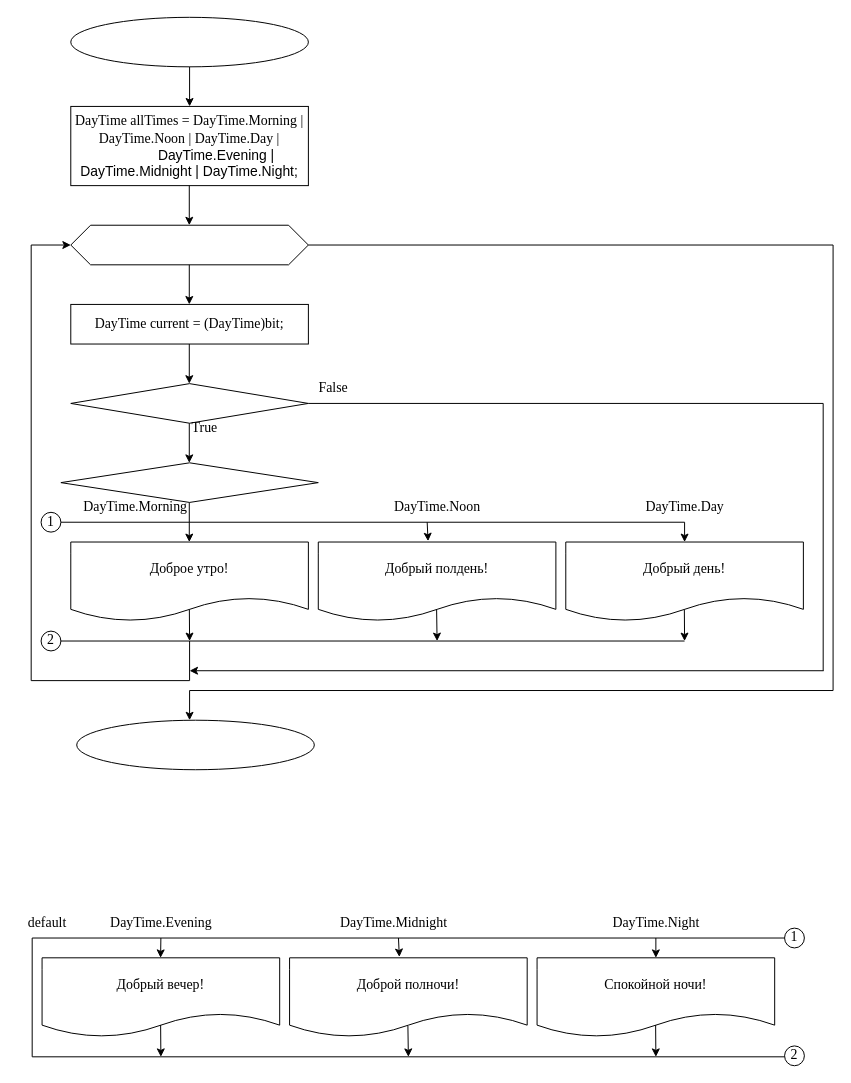
The diagram is 851 pixels wide and 1083 high, and some of its shapes have lost their labels. Here are the shapes that lost their labels. From the top down, the box of each, then its label:
(70, 16, 308, 67): Начало
(70, 224, 308, 265): int bit = 128; bit <= 4096; bit <<= 1
(70, 383, 308, 423): (allTimes & current) != 0
(60, 462, 318, 502): current?
(76, 719, 314, 770): Конец
